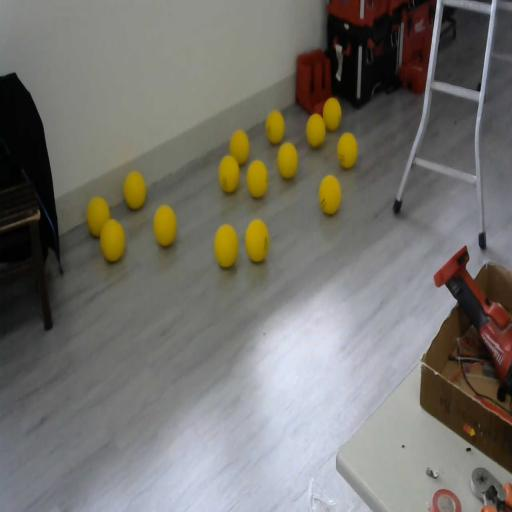FUEL: (99, 217, 126, 263), (213, 222, 239, 269), (244, 217, 270, 263), (152, 202, 178, 246), (318, 173, 342, 215), (246, 158, 268, 198), (123, 171, 146, 209), (218, 154, 240, 193), (336, 131, 358, 169), (277, 142, 298, 180), (230, 129, 250, 166), (306, 112, 326, 148), (265, 110, 285, 144), (322, 97, 342, 131)
